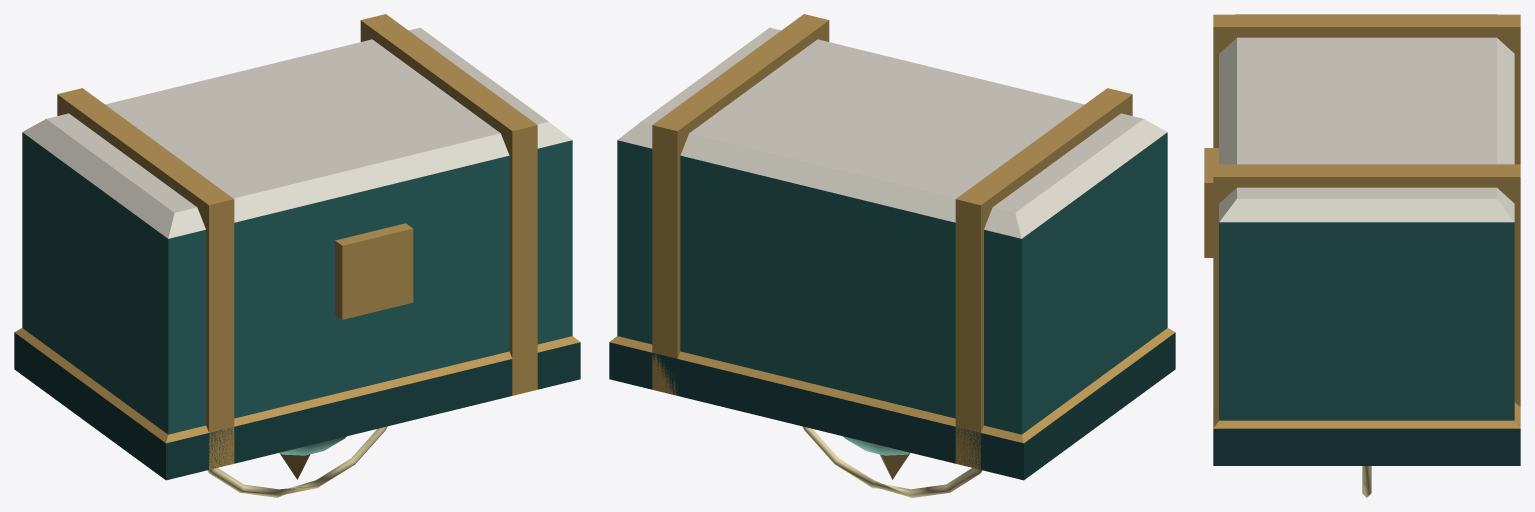
Rendered from Props.fbx.
3 renders of one model, left to right at view 1: azimuth 30°, elevation 25°; view 2: azimuth 150°, elevation 25°; view 3: azimuth 270°, elevation 25°, orthographic.
Parts seen in each view (by area): view 1: P_chest, P_chest_lid, P_orb; view 2: P_chest, P_chest_lid, P_orb; view 3: P_chest, P_chest_lid.
Part boxes in pixels (x1=…): P_chest: x1=22, y1=14, x2=572, y2=469; P_chest_lid: x1=14, y1=328, x2=580, y2=480; P_orb: x1=207, y1=426, x2=387, y2=497; P_chest: x1=617, y1=14, x2=1167, y2=469; P_chest_lid: x1=609, y1=328, x2=1175, y2=480; P_orb: x1=802, y1=426, x2=982, y2=497; P_chest: x1=1204, y1=14, x2=1520, y2=420; P_chest_lid: x1=1213, y1=402, x2=1520, y2=465.
Bounding box in the file's own units: 0.82 × 0.7245 × 0.535.
